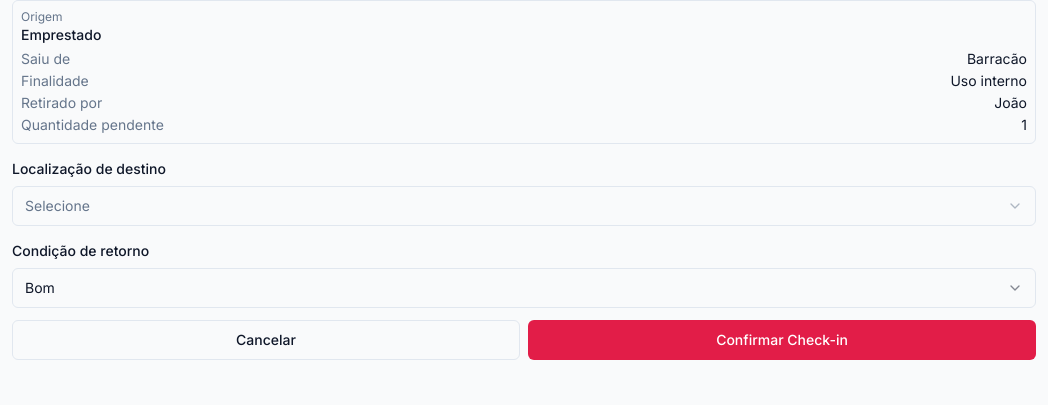
ScannerOperationForm - CHECK-IN › 2. exige uma localização de destino antes de montar o contexto
Click the button "Confirmar Check-in": (782, 340) [528,320,1036,360]
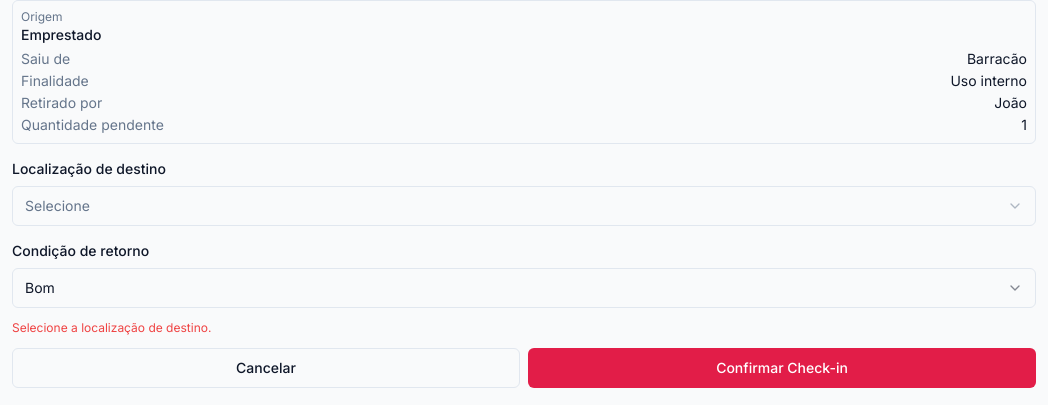
Check: the text "Selecione a localização de destino." is shown, box [12,320,211,335]
